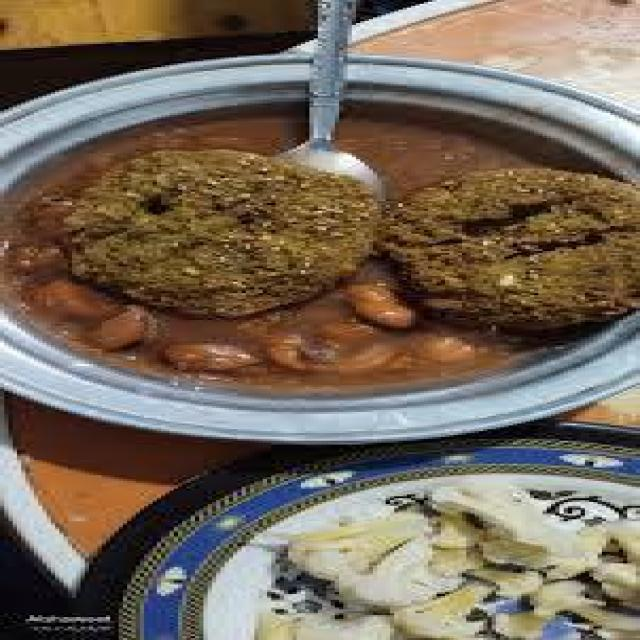taamia: (54, 156, 640, 331)
